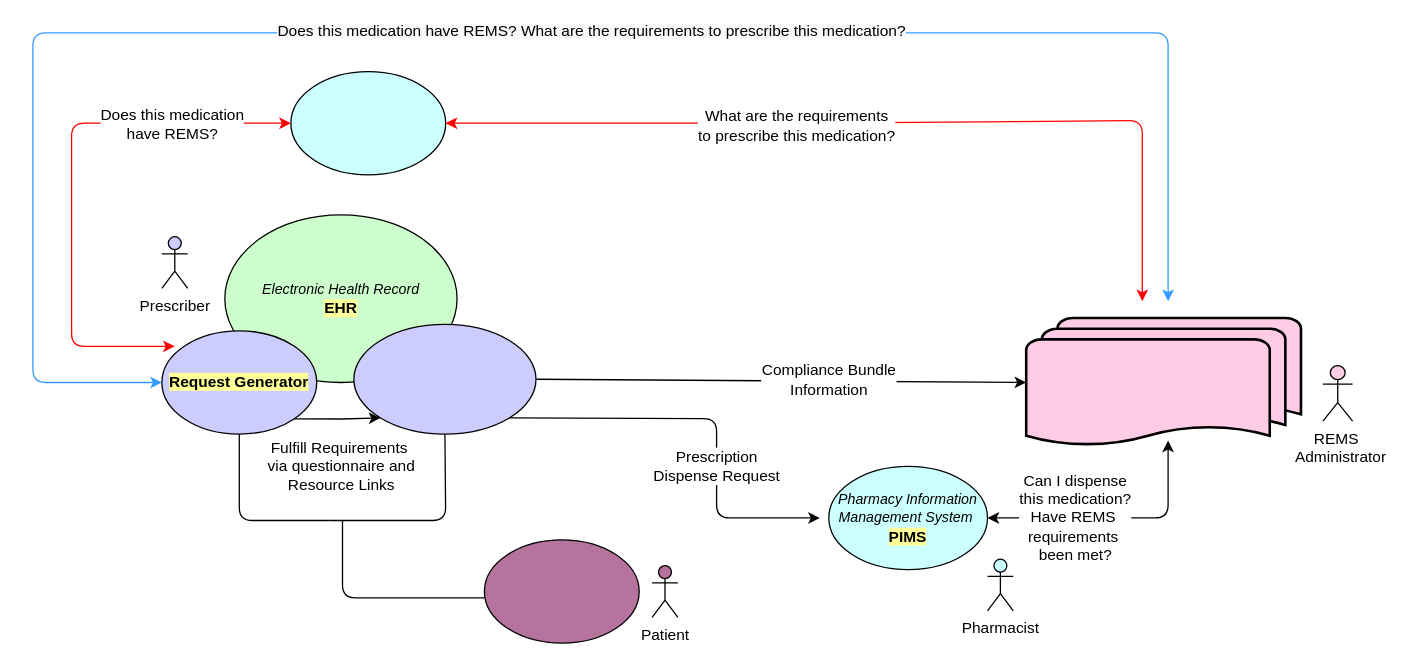
This 1407x667 diagram has some shape labels left out. Each missing label, with the centre of its shape:
"Clinical Decision Support CDS Hooks" belongs at (368,122).
"Patient Portal" belongs at (561,591).
"REMS Admin System n* Will have multiple admins for different drugs" belongs at (1163,382).
"SMART on FHIR App" belongs at (444,378).
